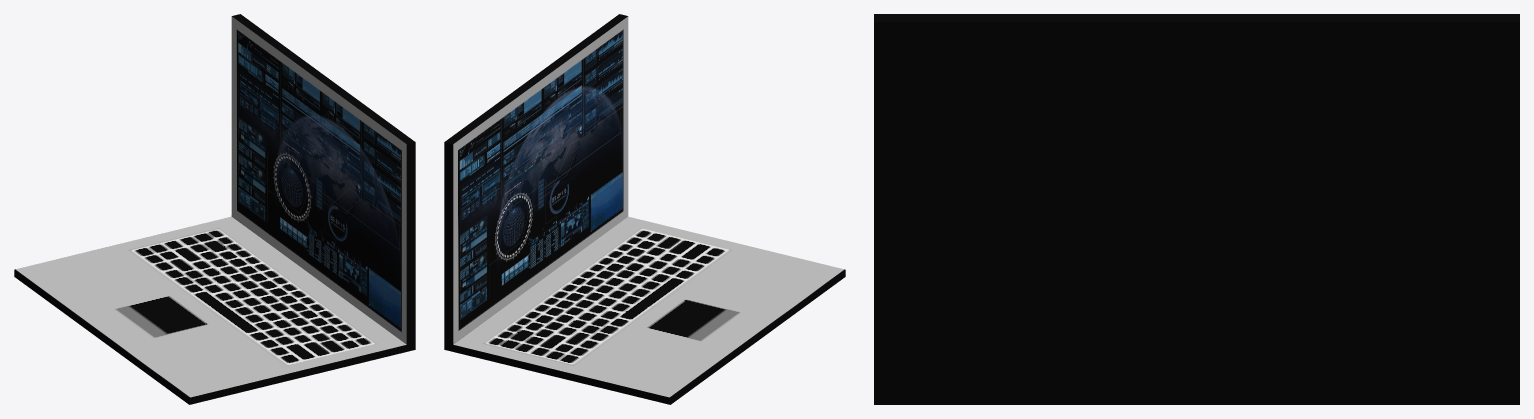
The model's file is Laptop_GenMain.fbx.
3 views of the same model, side by side, from view 1: azimuth 30°, elevation 25°; view 2: azimuth 150°, elevation 25°; view 3: azimuth 270°, elevation 25° (orthographic). The views are drawn at different scales.
Visible parts, largest first — view 1: Laptop; view 2: Laptop; view 3: Laptop.
Part boxes in pixels (x1,y1,x2,y2): Laptop: [14, 14, 415, 404]; Laptop: [444, 14, 845, 404]; Laptop: [874, 14, 1519, 404].
Bounding box in the file's own units: 42.42 × 37.21 × 56.87.
